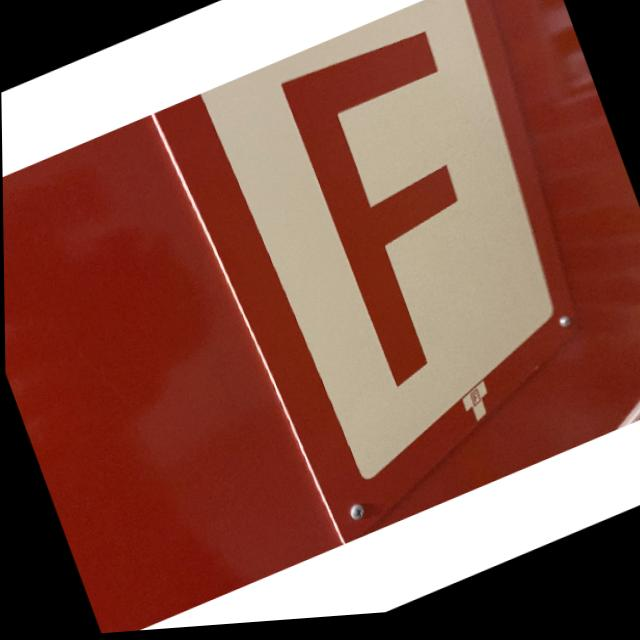fire extinguisher: (181, 0, 640, 555)
